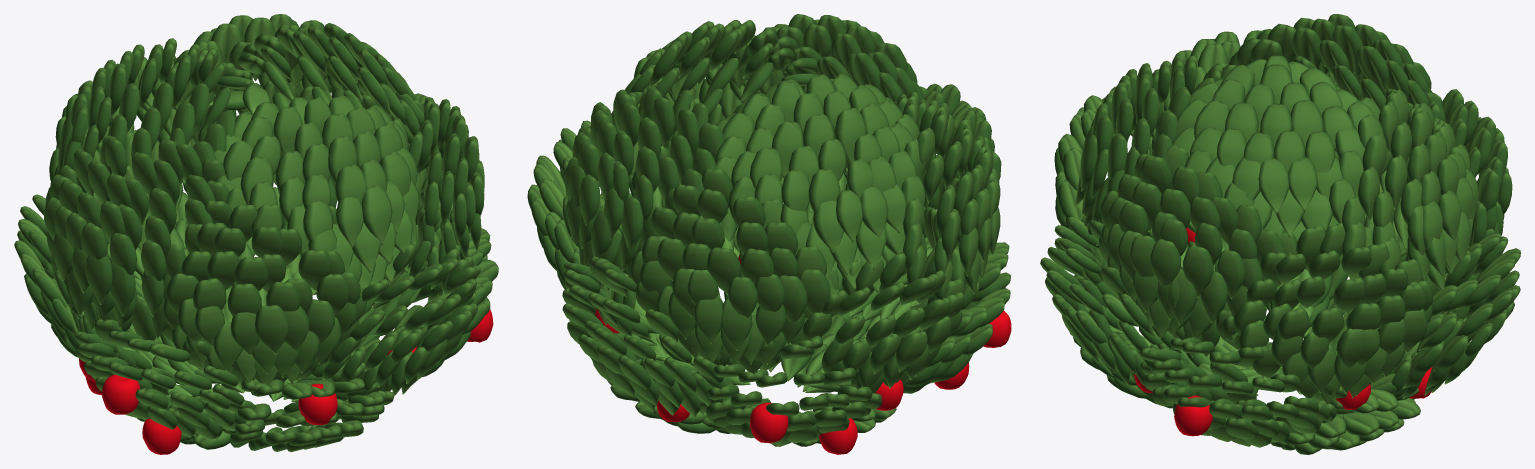
File: tosstree_inside.glb
3 renders of one model, left to right at view 1: azimuth 30°, elevation 25°; view 2: azimuth 150°, elevation 25°; view 3: azimuth 270°, elevation 25°, orthographic.
Parts seen in each view (by area): view 1: tosstree; view 2: tosstree; view 3: tosstree.
Part boxes in pixels (x1,y1,x2,y2): tosstree: [14, 14, 498, 454]; tosstree: [527, 14, 1011, 454]; tosstree: [1040, 14, 1520, 454].
Size of the model in its own units: 22.09 by 18.99 by 22.18.
